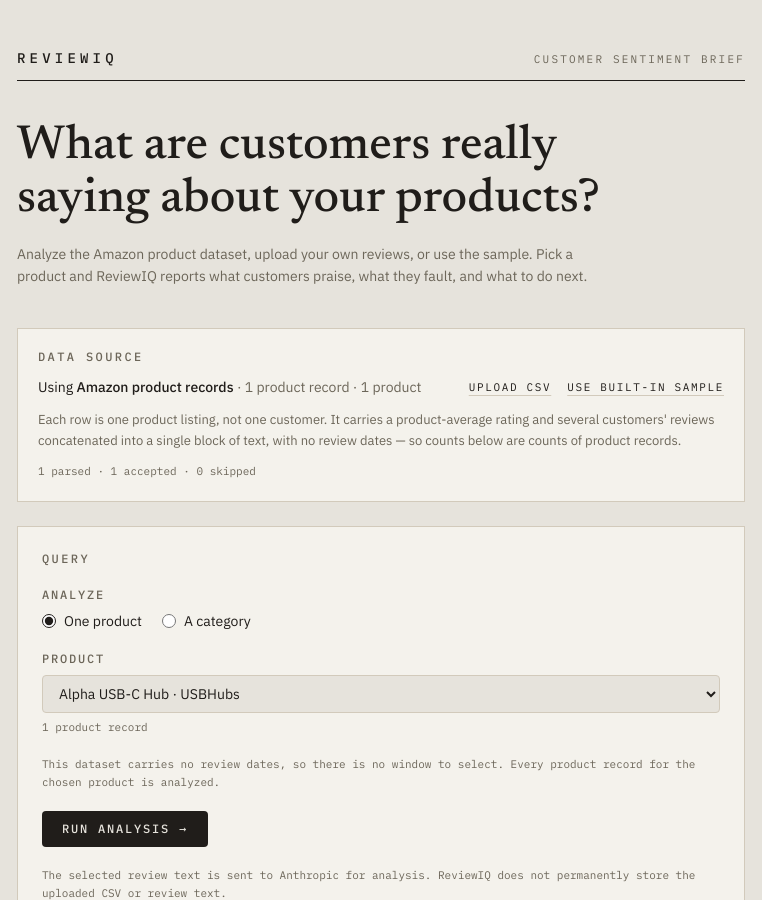
journey — Claude engine › renders a model-authored theme label without mangling its acronym
Step 1. Click the button "Run analysis →" → (125, 830), box [42, 812, 208, 848]
(page scrolled)
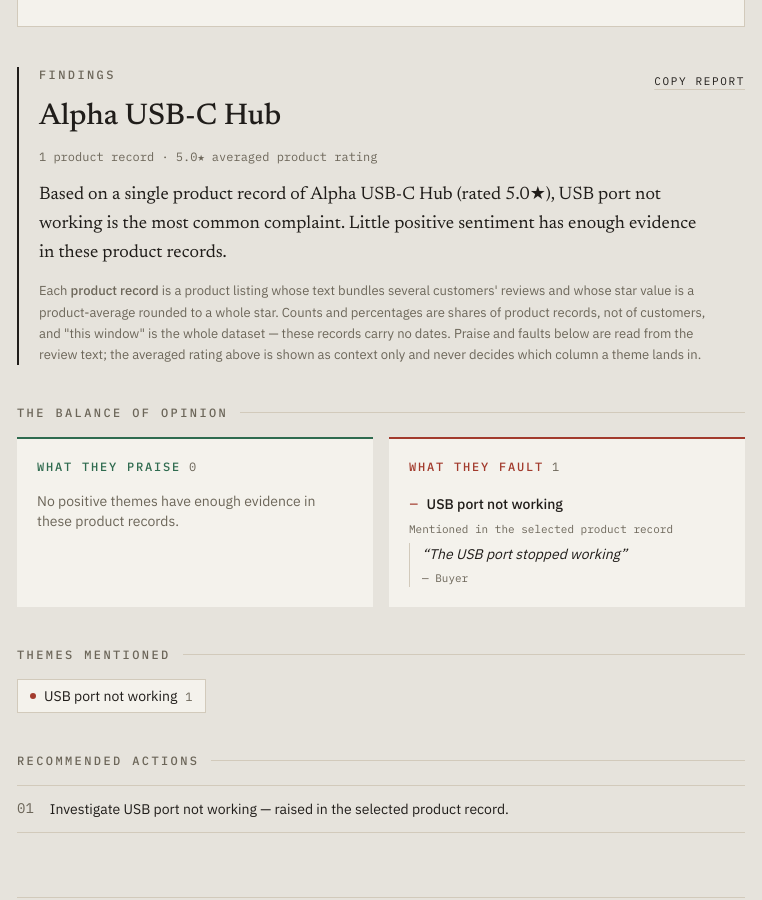
Result: the element that starts with "Findings" is shown
Result: the element that starts with "Findings" shows "USB port not working" at [427, 495, 563, 513]
